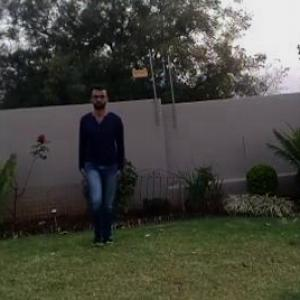follow: (78, 84, 132, 242)
